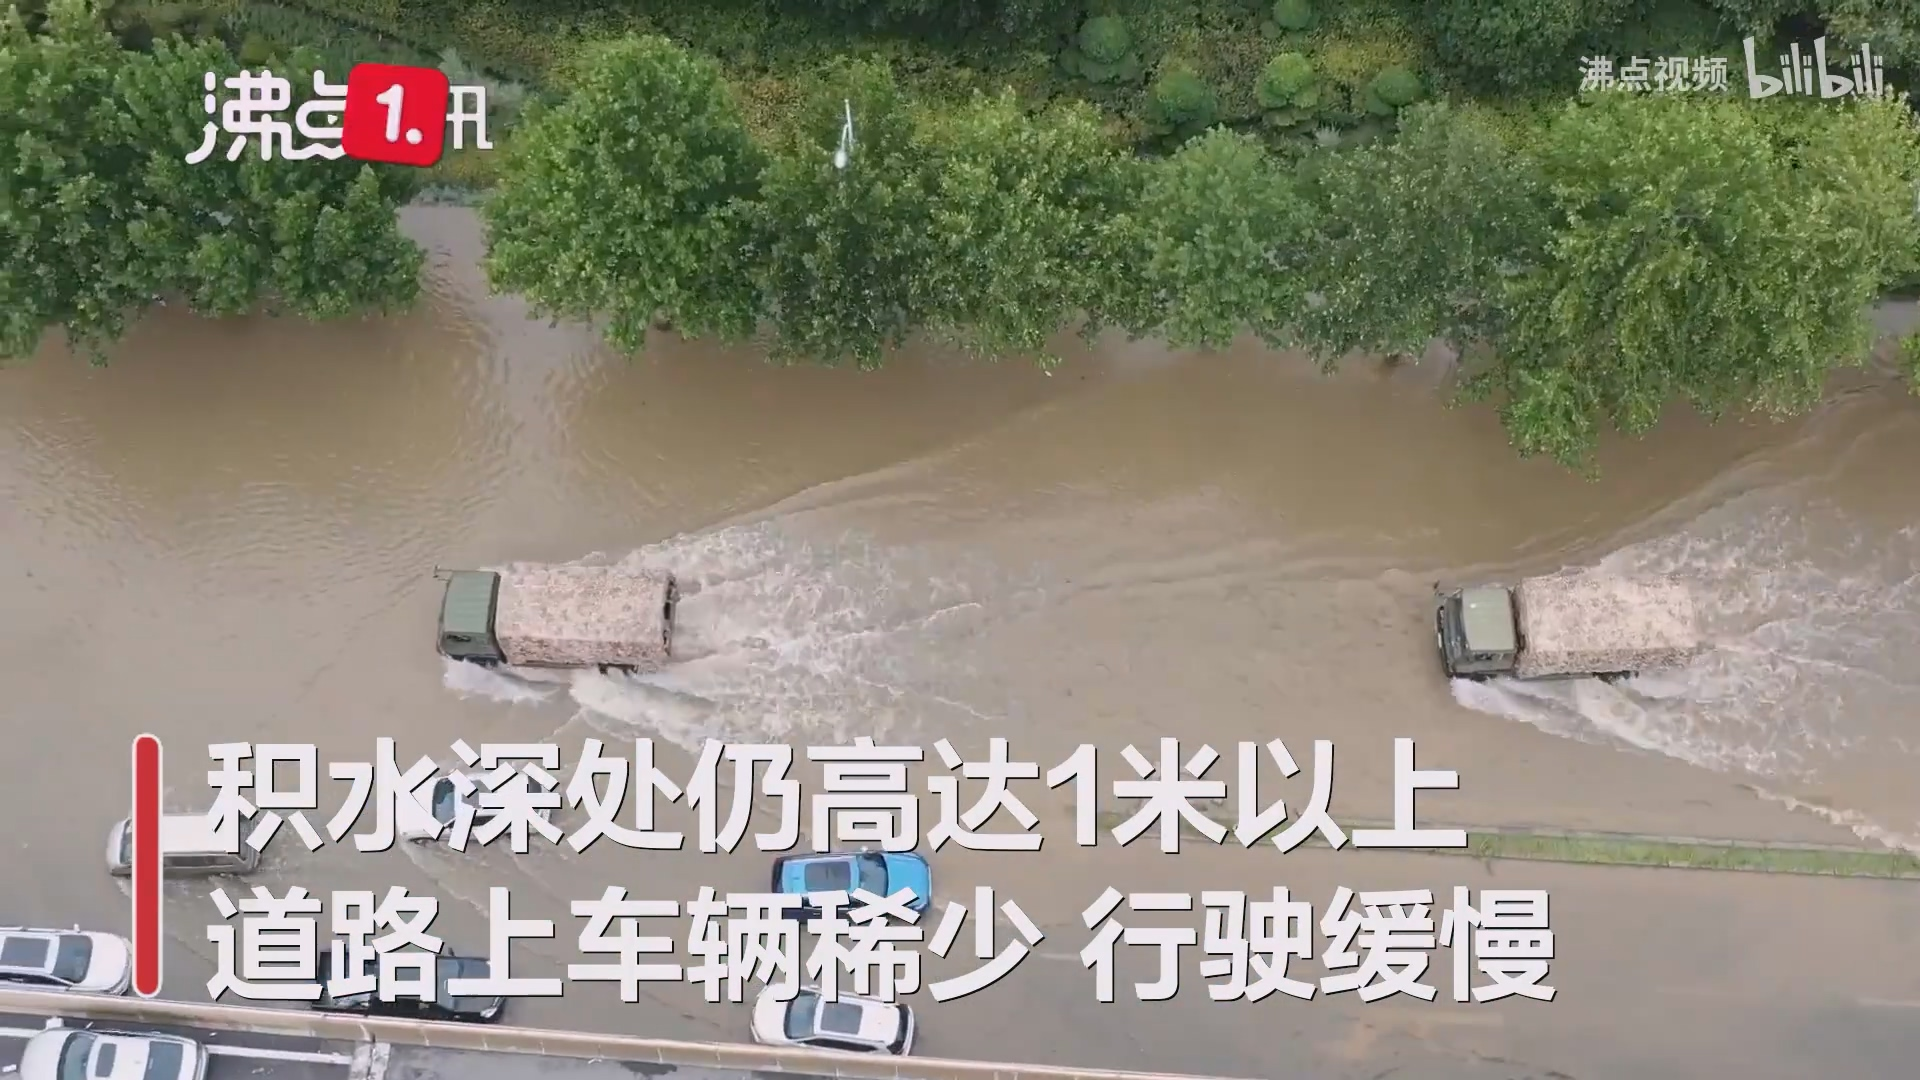puddle: (36, 280, 1870, 757)
